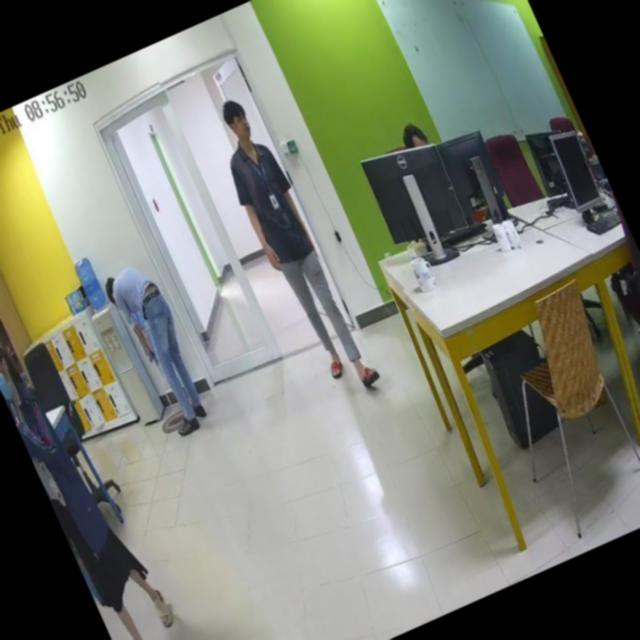person: (0, 313, 198, 640), (204, 91, 384, 406), (101, 257, 219, 440)
